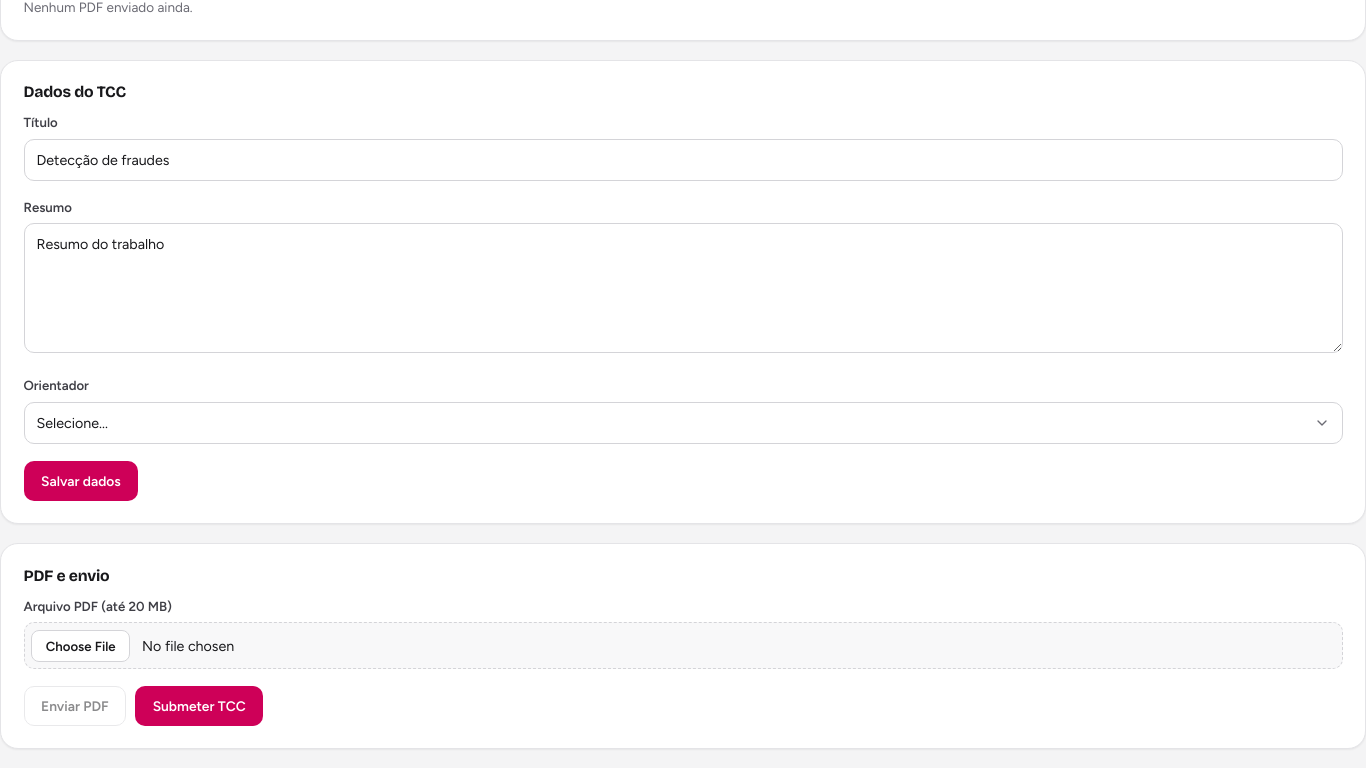
Scenario: tela do aluno › mostra a mensagem da API quando a submissão é recusada
(page scrolled)
Click the button "Submeter TCC" at [199, 706], box [135,686,263,726]
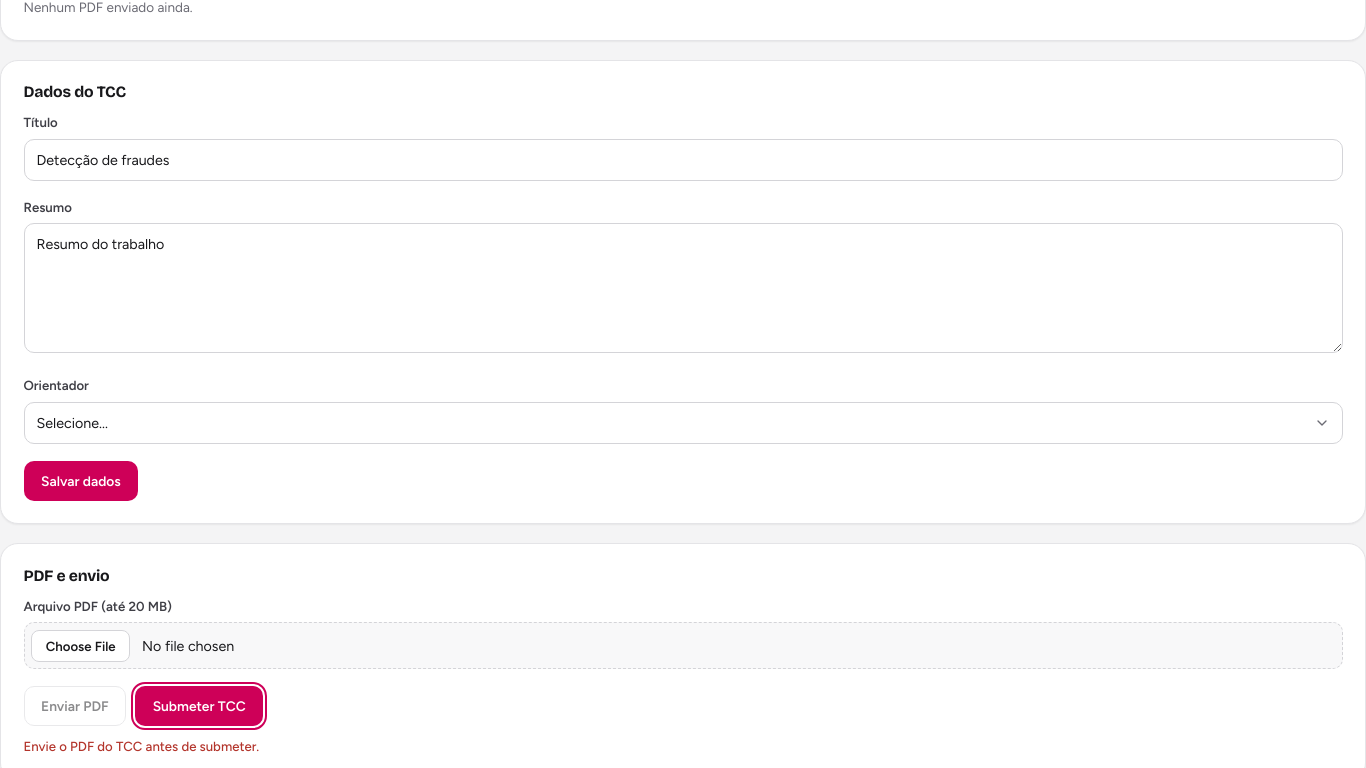
Now the message reads "Envie o PDF do TCC antes de submeter.", box [24,738,259,754]
